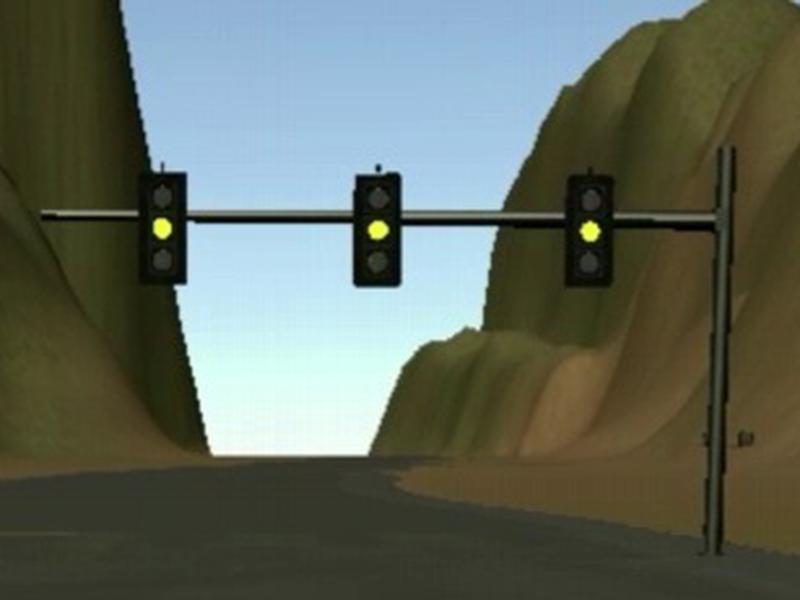Yellow: (563, 173, 617, 290), (350, 173, 402, 289), (140, 171, 188, 283)
